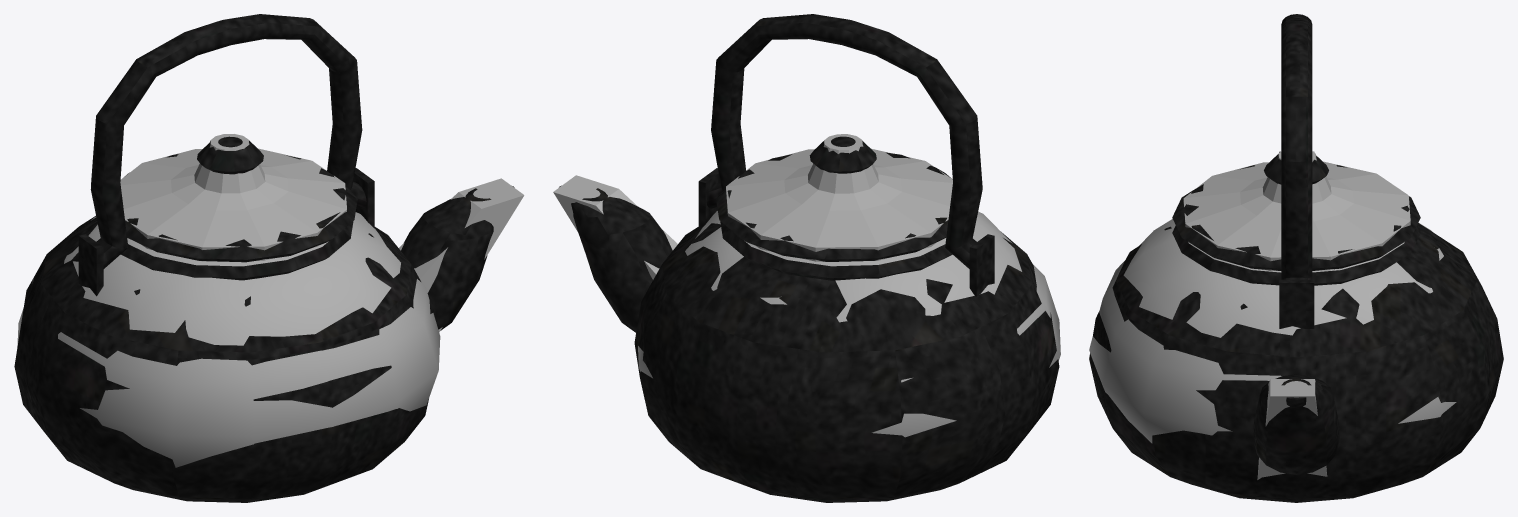
The model's file is yakan.fbx.
3 views of the same model, side by side, from view 1: azimuth 30°, elevation 25°; view 2: azimuth 150°, elevation 25°; view 3: azimuth 270°, elevation 25° (orthographic). The views are drawn at different scales.
Parts seen in each view (by area): view 1: yakan:yakan_2, yakanHit1, yakanHit3, yakan:yakan_3, yakanHit2; view 2: yakan:yakan_2, yakanHit3, yakanHit1, yakan:yakan_3, yakanHit2; view 3: yakan:yakan_2, yakanHit1, yakanHit3, yakan:yakan_3, yakanHit2.
Boxes of the visible parts, <box> form: yakan:yakan_2: <box>14,14,514,502</box>; yakanHit1: <box>17,212,440,467</box>; yakanHit3: <box>120,134,346,261</box>; yakan:yakan_3: <box>124,136,357,262</box>; yakanHit2: <box>399,178,524,332</box>; yakan:yakan_2: <box>559,14,1059,502</box>; yakanHit3: <box>726,134,952,261</box>; yakanHit1: <box>638,211,1060,437</box>; yakan:yakan_3: <box>716,136,951,261</box>; yakanHit2: <box>553,175,677,279</box>; yakan:yakan_2: <box>1089,14,1503,502</box>; yakanHit1: <box>1089,219,1456,443</box>; yakanHit3: <box>1183,151,1410,270</box>; yakan:yakan_3: <box>1172,154,1420,270</box>; yakanHit2: <box>1257,379,1327,479</box>.
Size of the model in its own units: 5.44 by 4.88 by 4.27.
Materials: 2 (1 with a texture image).
